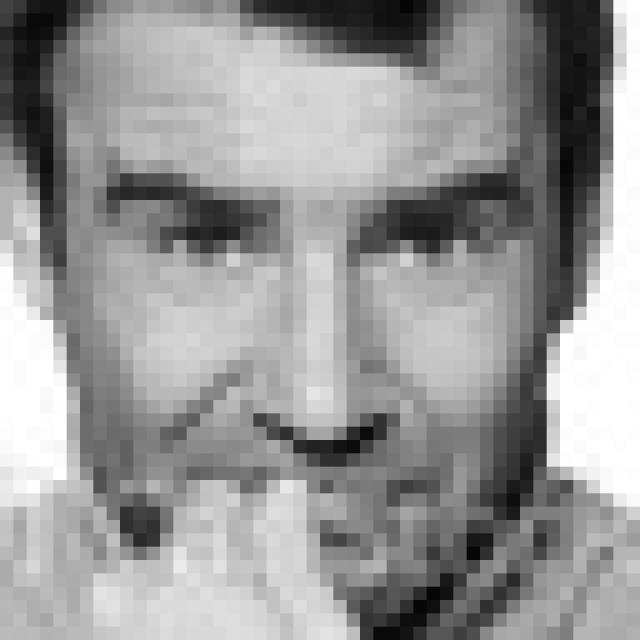fear: (94, 166, 536, 553)
